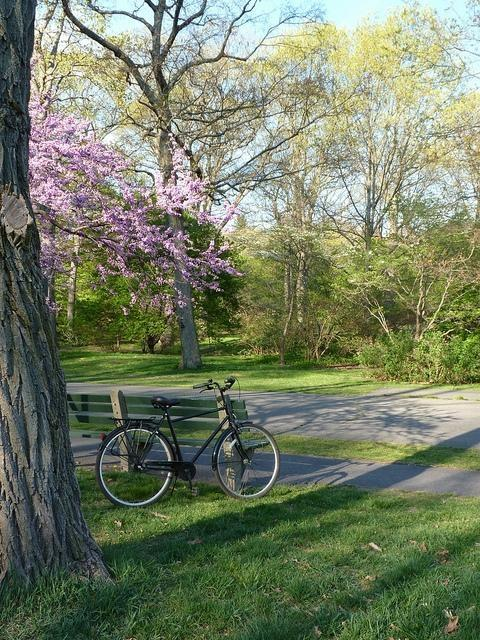bicycle: (102, 378, 288, 508)
